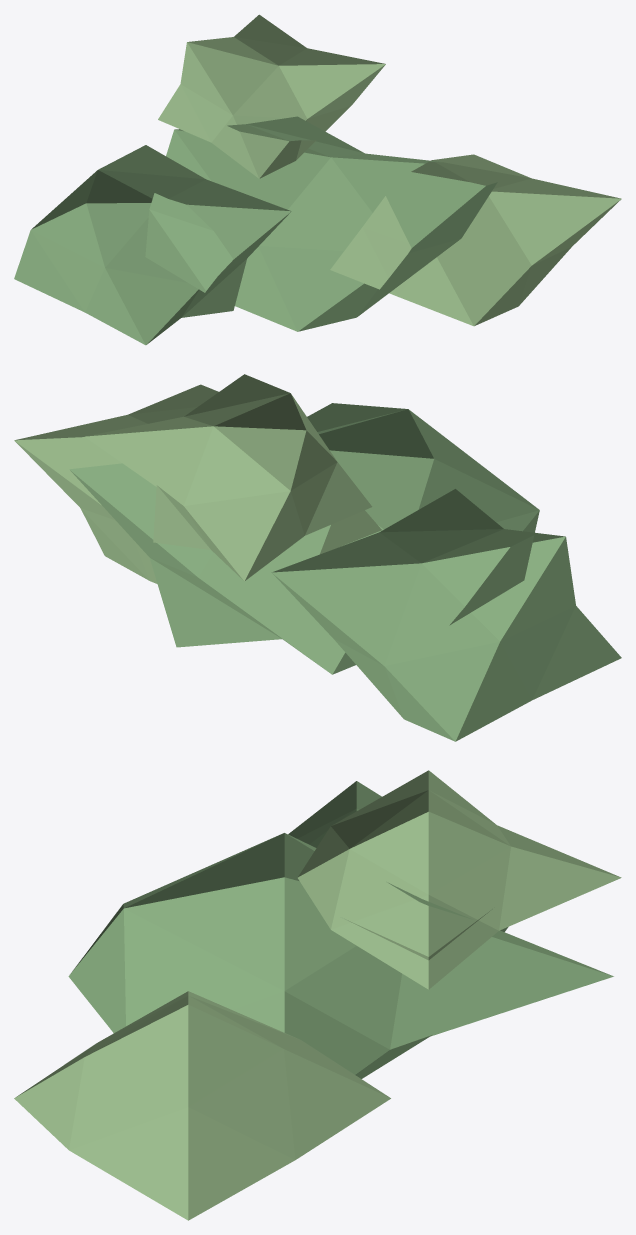
Rendered from shrub.glb.
3 renders of one model, top to bottom at view 1: azimuth 30°, elevation 25°; view 2: azimuth 150°, elevation 25°; view 3: azimuth 270°, elevation 25°, orthographic. The views are drawn at different scales.
Parts seen in each view (by area): view 1: lod0; view 2: lod0; view 3: lod0.
Boxes of the visible parts, bbox=[...] form: lod0: bbox=[14, 14, 621, 345]; lod0: bbox=[14, 374, 621, 741]; lod0: bbox=[14, 770, 621, 1220].
Size of what is drawn, in the model's own units: 1.75 by 0.8491 by 1.26.
